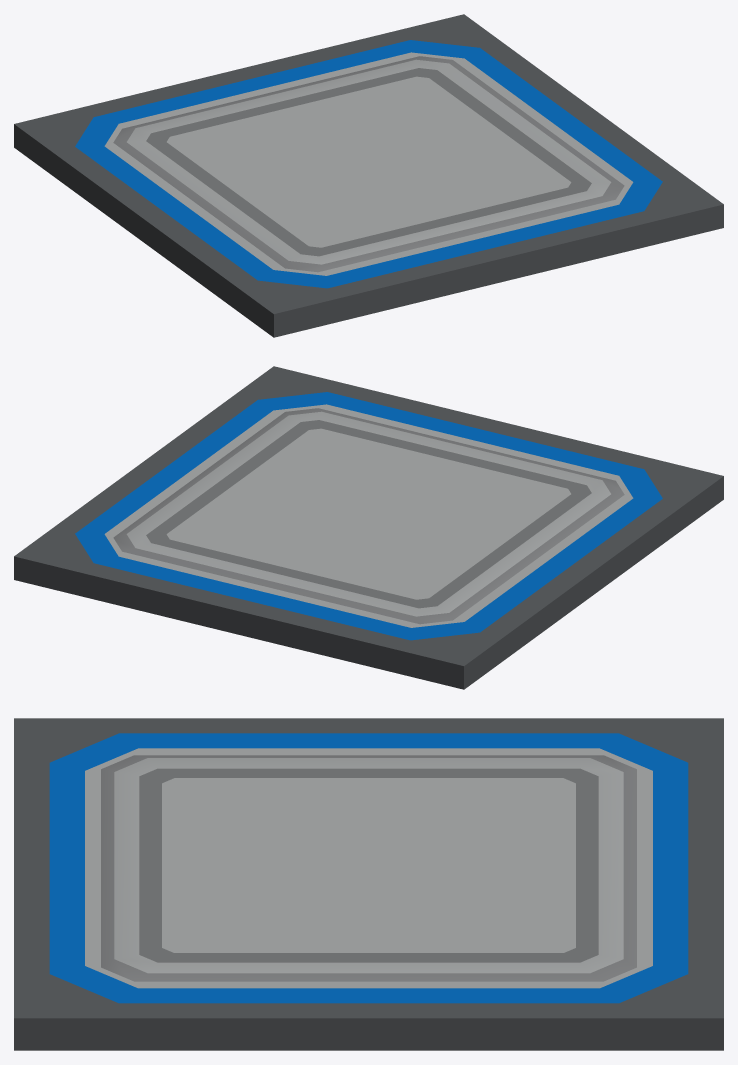
The model's file is Platform_005.fbx.
The picture shows the model from 3 angles, top to bottom: view 1: azimuth 30°, elevation 25°; view 2: azimuth 150°, elevation 25°; view 3: azimuth 270°, elevation 25°; orthographic projection. The views are drawn at different scales.
Parts seen in each view (by area): view 1: Platform_005; view 2: Platform_005; view 3: Platform_005.
Part boxes in pixels (left/top/right/bottom): Platform_005: left=14, top=14, right=723, bottom=337; Platform_005: left=14, top=366, right=723, bottom=689; Platform_005: left=14, top=718, right=723, bottom=1050.
Bounding box in the file's own units: 400 × 400 × 23.45.
